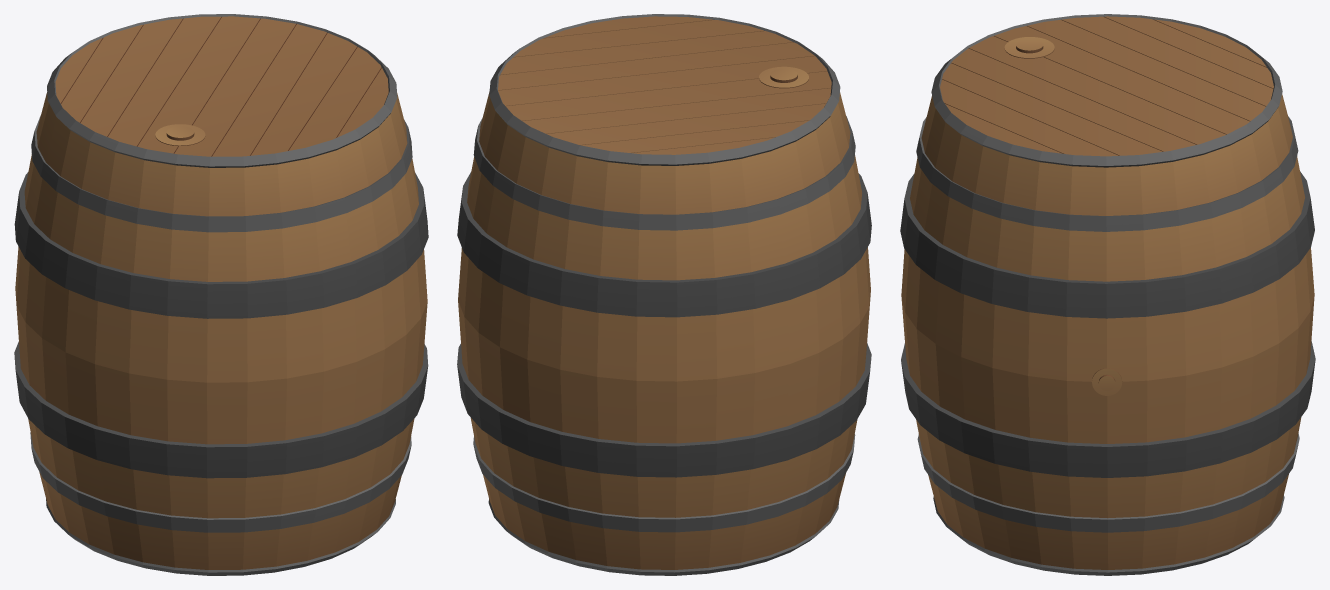
The model's file is Small Light Barrel Closed #1.fbx.
3 renders of one model, left to right at view 1: azimuth 30°, elevation 25°; view 2: azimuth 150°, elevation 25°; view 3: azimuth 270°, elevation 25°, orthographic.
Visible parts, largest first — view 1: Small Light Barrel Closed #1; view 2: Small Light Barrel Closed #1; view 3: Small Light Barrel Closed #1.
Part boxes in pixels (<box>): Small Light Barrel Closed #1: <box>14,14,428,575</box>; Small Light Barrel Closed #1: <box>457,14,871,575</box>; Small Light Barrel Closed #1: <box>900,14,1315,575</box>.
Bounding box in the file's own units: 272 × 243 × 244.
1 material, 1 textured.
